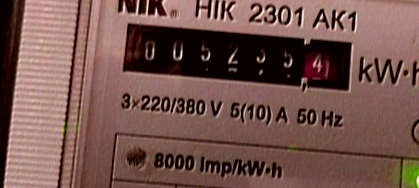0: (141, 37, 159, 64), (170, 37, 186, 63)
2: (225, 40, 241, 66)
3: (253, 40, 269, 66)
4: (310, 48, 327, 75)
5: (280, 43, 297, 71), (197, 38, 214, 65)
screen: (113, 14, 365, 100)
